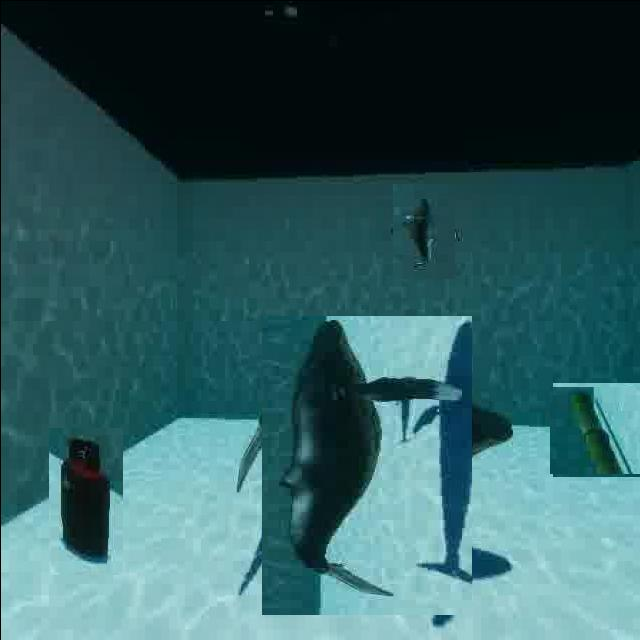Cylinder: (47, 427, 121, 574)
Pipe: (551, 383, 640, 474)
Whale: (239, 337, 494, 592), (383, 190, 462, 270)
